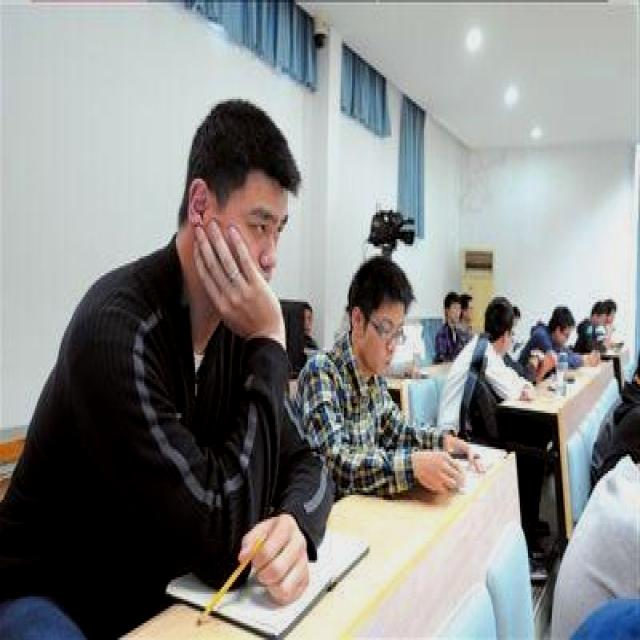face_nomask: (232, 179, 302, 280), (358, 306, 408, 369)
hand_noglove: (186, 222, 288, 348), (237, 502, 315, 611), (408, 447, 459, 507)
head_nohelmet: (182, 96, 309, 184), (350, 256, 410, 321), (488, 297, 518, 319), (548, 307, 578, 328), (606, 294, 621, 318), (590, 302, 612, 316), (446, 290, 461, 304), (461, 290, 472, 309)
person: (37, 101, 323, 590), (301, 275, 414, 466), (451, 295, 525, 420), (435, 280, 475, 358), (530, 302, 578, 367), (581, 290, 616, 350)
